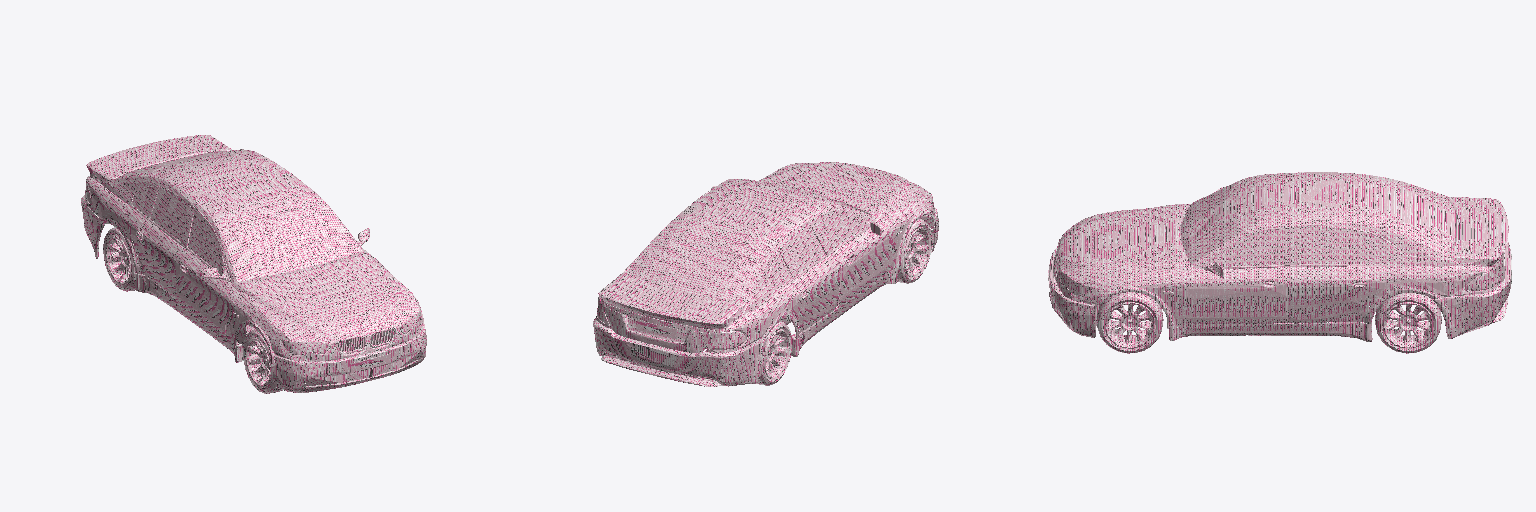
3 renders of one model, left to right at view 1: azimuth 30°, elevation 25°; view 2: azimuth 150°, elevation 25°; view 3: azimuth 270°, elevation 25°, orthographic.
Parts seen in each view (by area): view 1: bmw7; view 2: bmw7; view 3: bmw7.
Boxes of the visible parts, x1,y1,x2,y2 form: bmw7: [81, 135, 426, 393]; bmw7: [593, 162, 938, 386]; bmw7: [1048, 172, 1511, 353].
Bounding box in the file's own units: 84.11 × 60.05 × 198.
Materials: 1 (1 with a texture image).